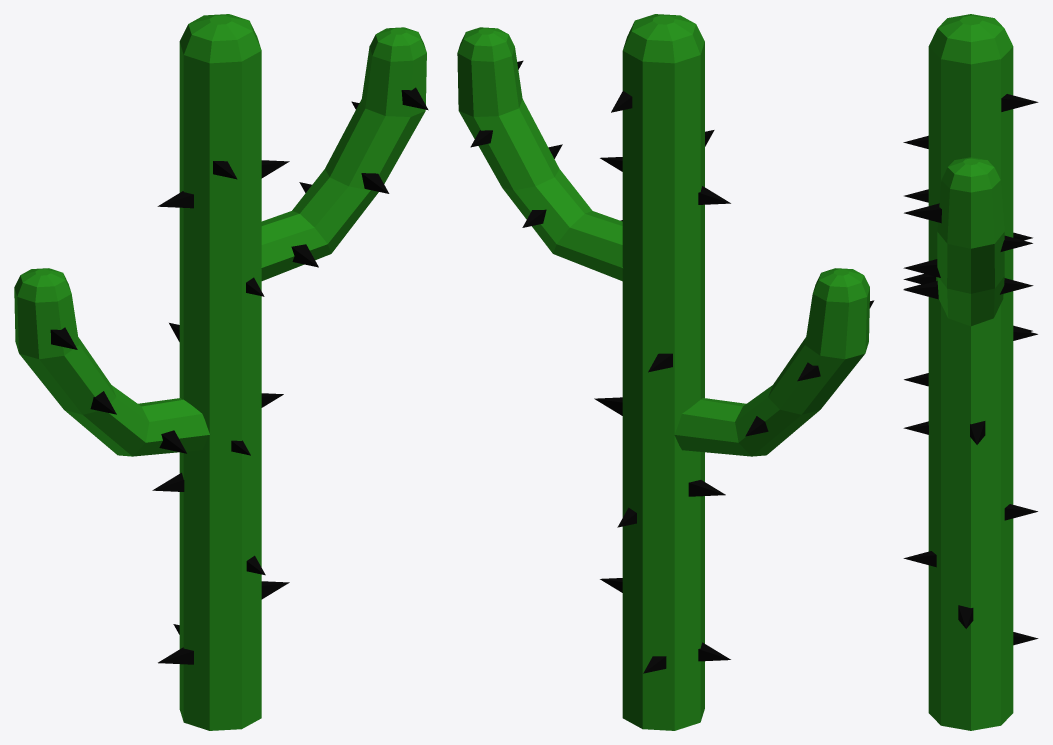
The model's file is Cactus.fbx.
The picture shows the model from 3 angles, left to right: view 1: azimuth 30°, elevation 25°; view 2: azimuth 150°, elevation 25°; view 3: azimuth 270°, elevation 25°; orthographic projection.
Parts seen in each view (by area): view 1: Cactus.001; view 2: Cactus.001; view 3: Cactus.001.
Boxes of the visible parts, bbox=[...] form: Cactus.001: bbox=[14, 14, 428, 730]; Cactus.001: bbox=[457, 14, 874, 730]; Cactus.001: bbox=[903, 14, 1038, 730].
Bounding box in the file's own units: 27.62 × 45 × 8.
